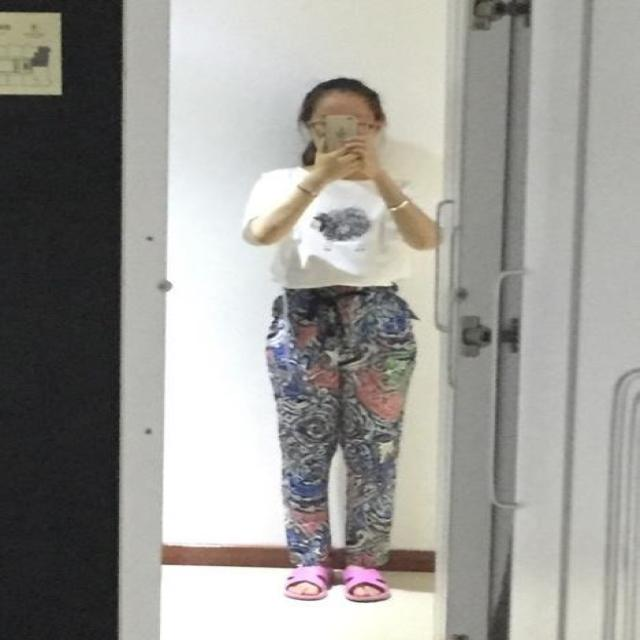short sleeve top: (242, 164, 435, 289)
trousers: (271, 285, 409, 564)
